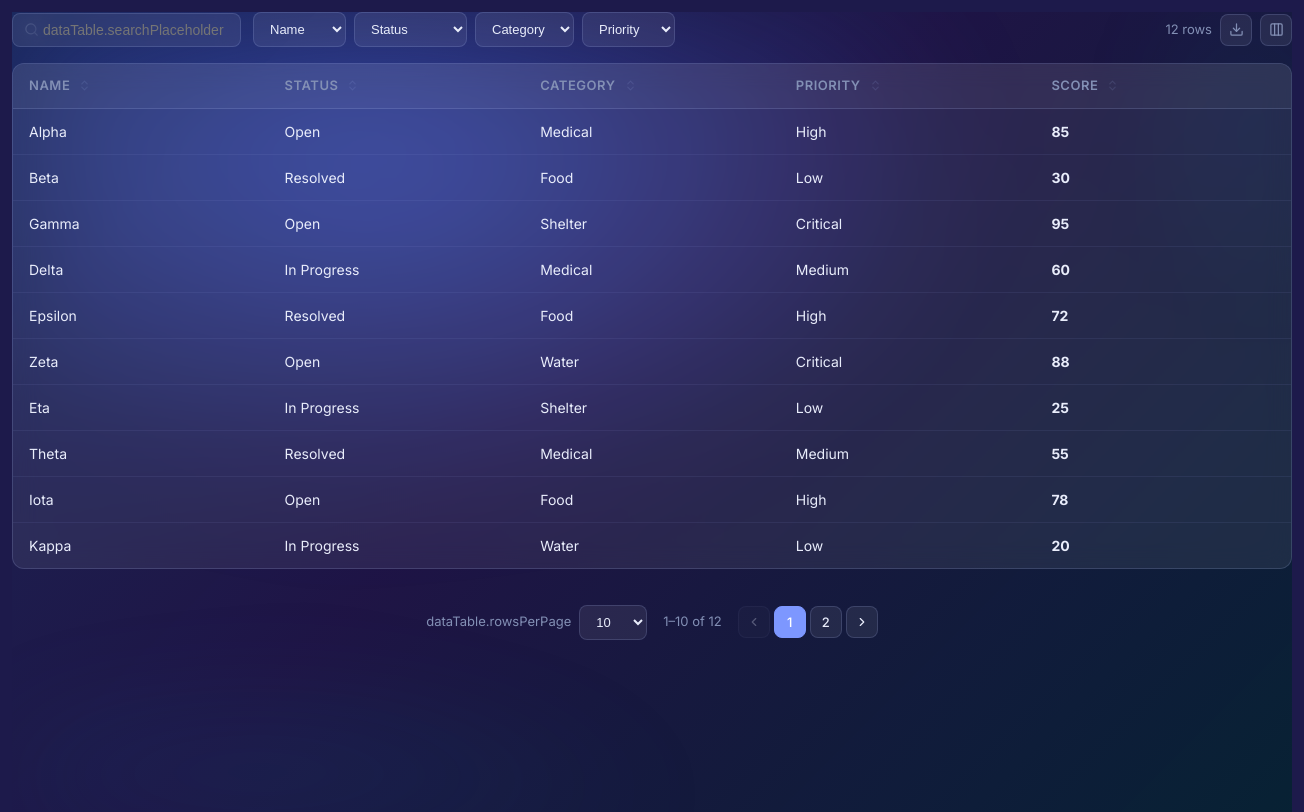
DataTable › Column Filters › filters by column status value
This screenshot has width=1304, height=812.
Select "Open" in the 2nd dropdown with class "dt-filter-select". click: (410, 30)
box: [354,12,467,47]
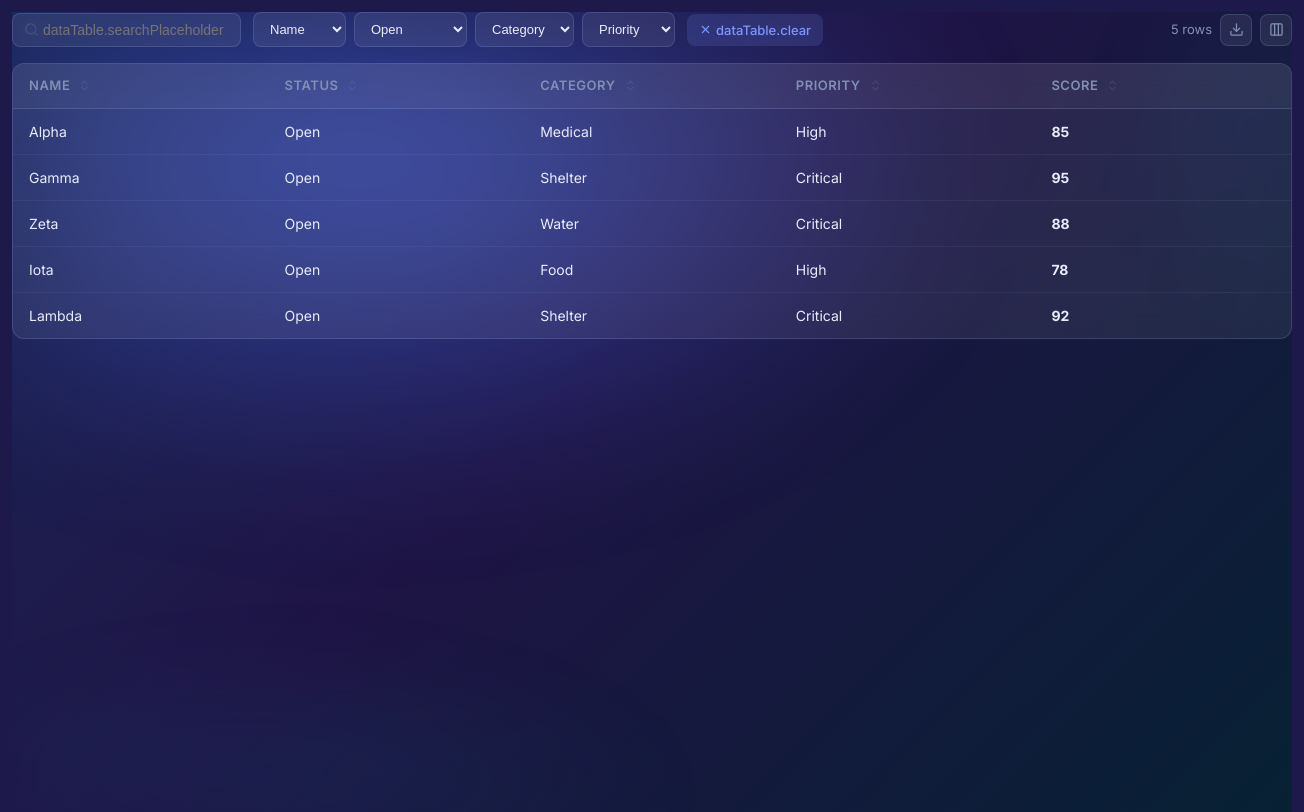
Expected: the cell with class "dt-tbody" no longer shows "Beta"
